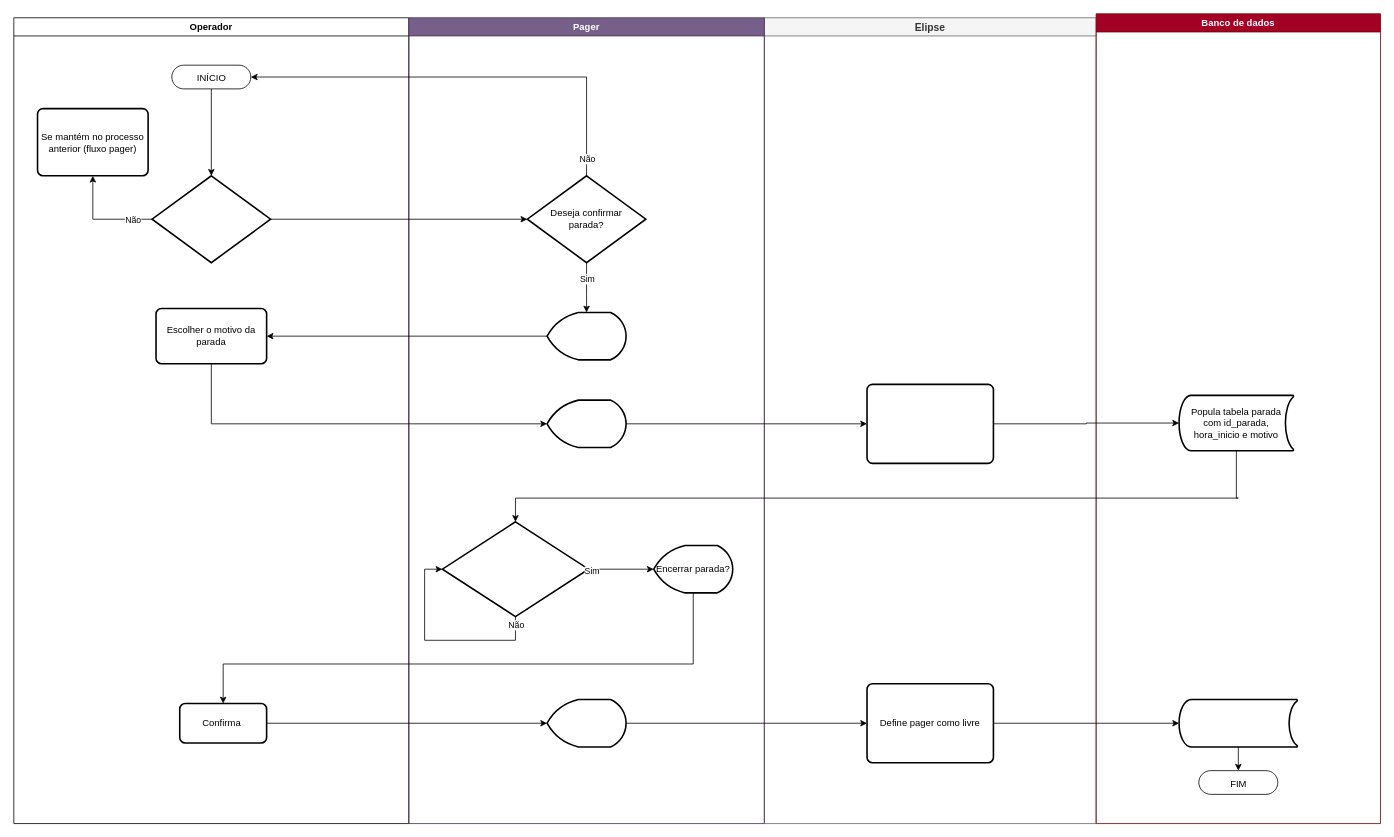
The diagram is 1394 pixels wide and 837 high, and some of its shapes have lost their labels. Here are the shapes that lost their labels. From the top down, the centre of each, then its label:
At point 211,219: "Apertou botão amarelo para definir parada?".
At point 586,335: "motivos de parada".
At point 586,423: "Aparelho em Parada".
At point 930,423: "Define pager como parado, e bloqueia chamados".
At point 515,569: "Pager em parada e operador apertou botão amarelo?".
At point 586,722: "Parada encerrada".
At point 1238,722: "Popula tabela parada com hora_fim".
